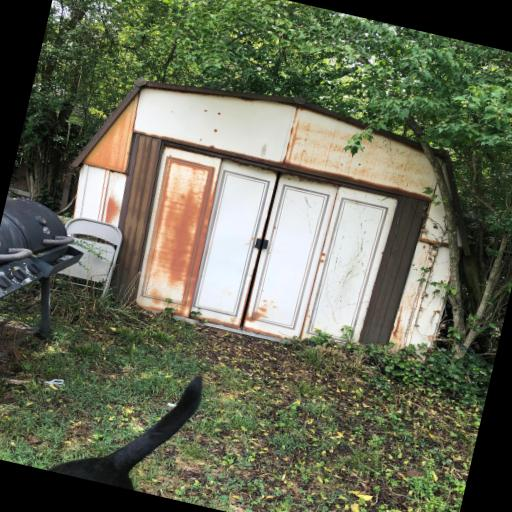segmentation: (133, 132, 429, 201), (138, 155, 216, 317), (143, 157, 215, 309), (83, 96, 138, 173), (391, 271, 425, 348), (242, 326, 284, 340), (413, 242, 437, 265), (105, 190, 120, 224), (204, 317, 239, 329), (419, 235, 448, 248), (191, 316, 203, 320), (321, 253, 326, 262)
